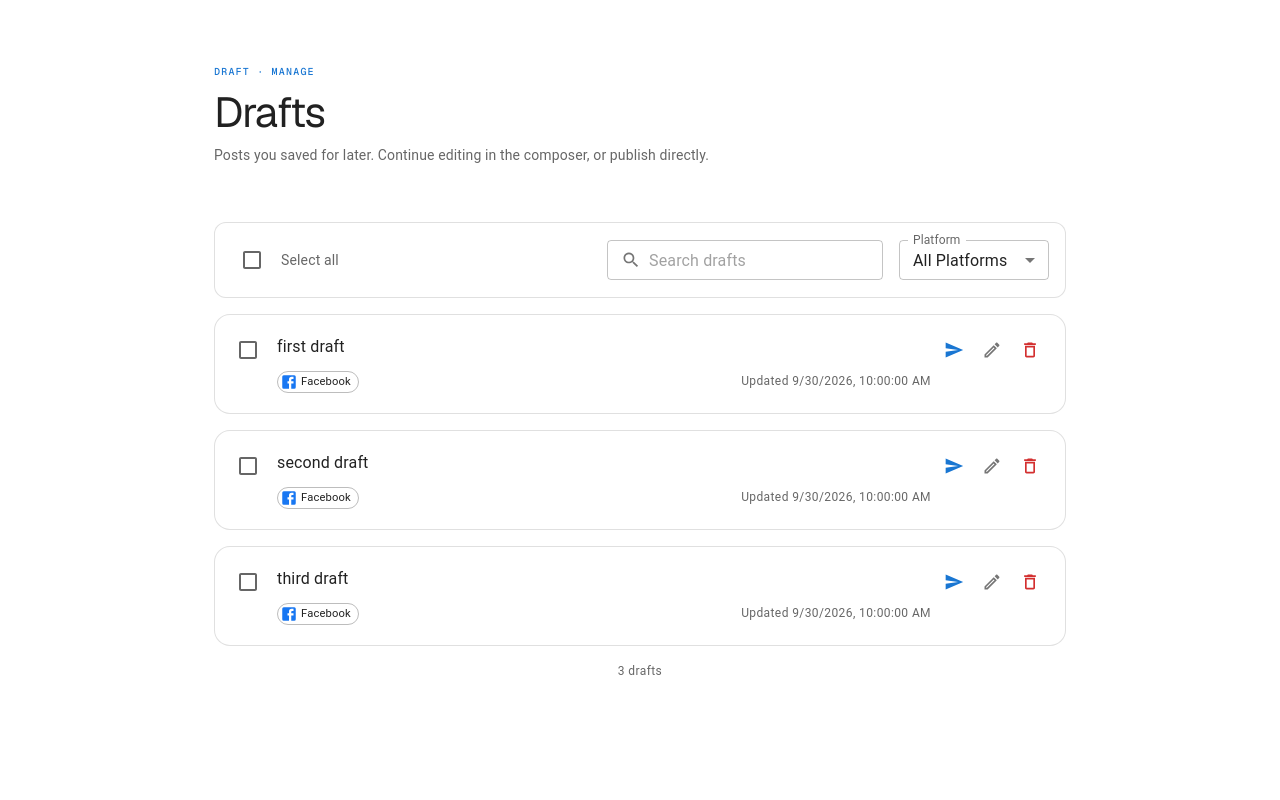
Test: Drafts page › bulk-deletes the selected drafts after confirmation
Expected: the text "first draft" is shown, [277, 337, 345, 356]
Click the checkbox named "Select draft 1". click: click(248, 350)
box: [236, 338, 260, 362]
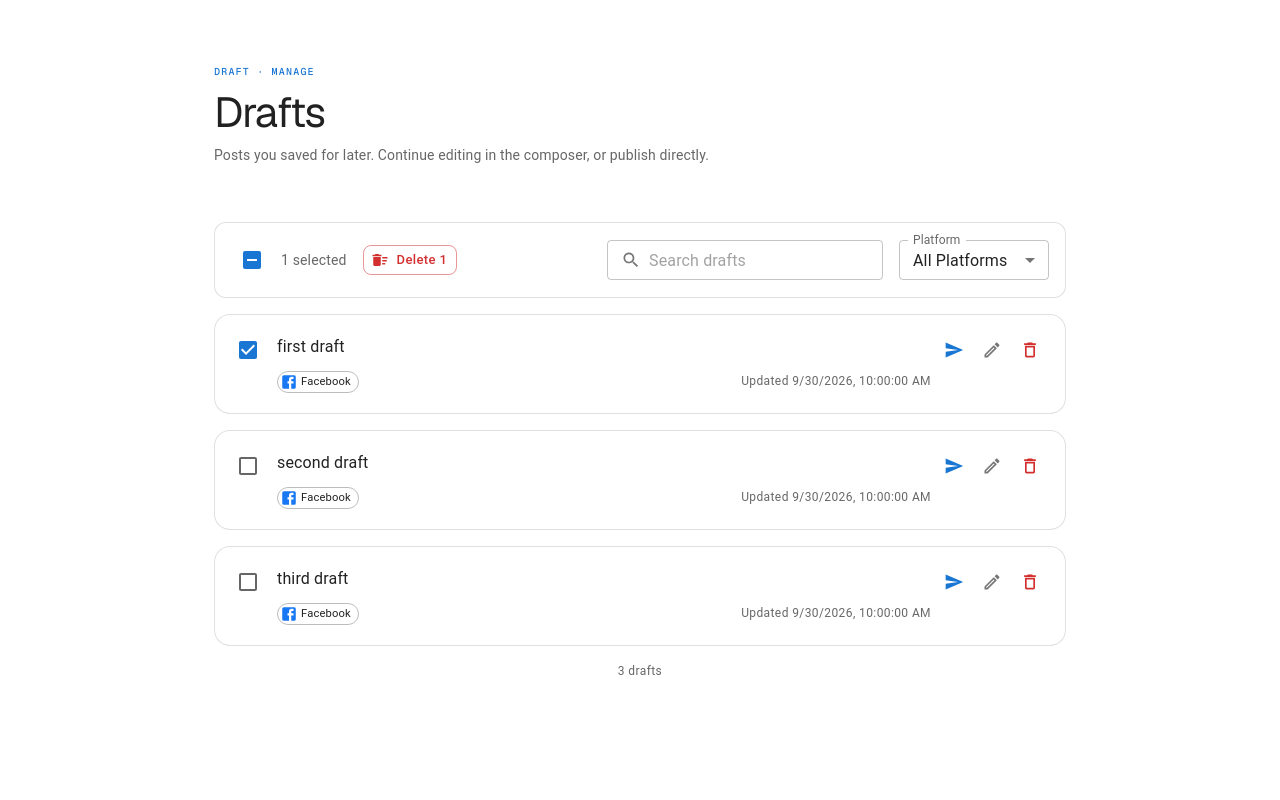
Click the checkbox named "Select draft 3". click: click(248, 582)
box: [236, 570, 260, 594]
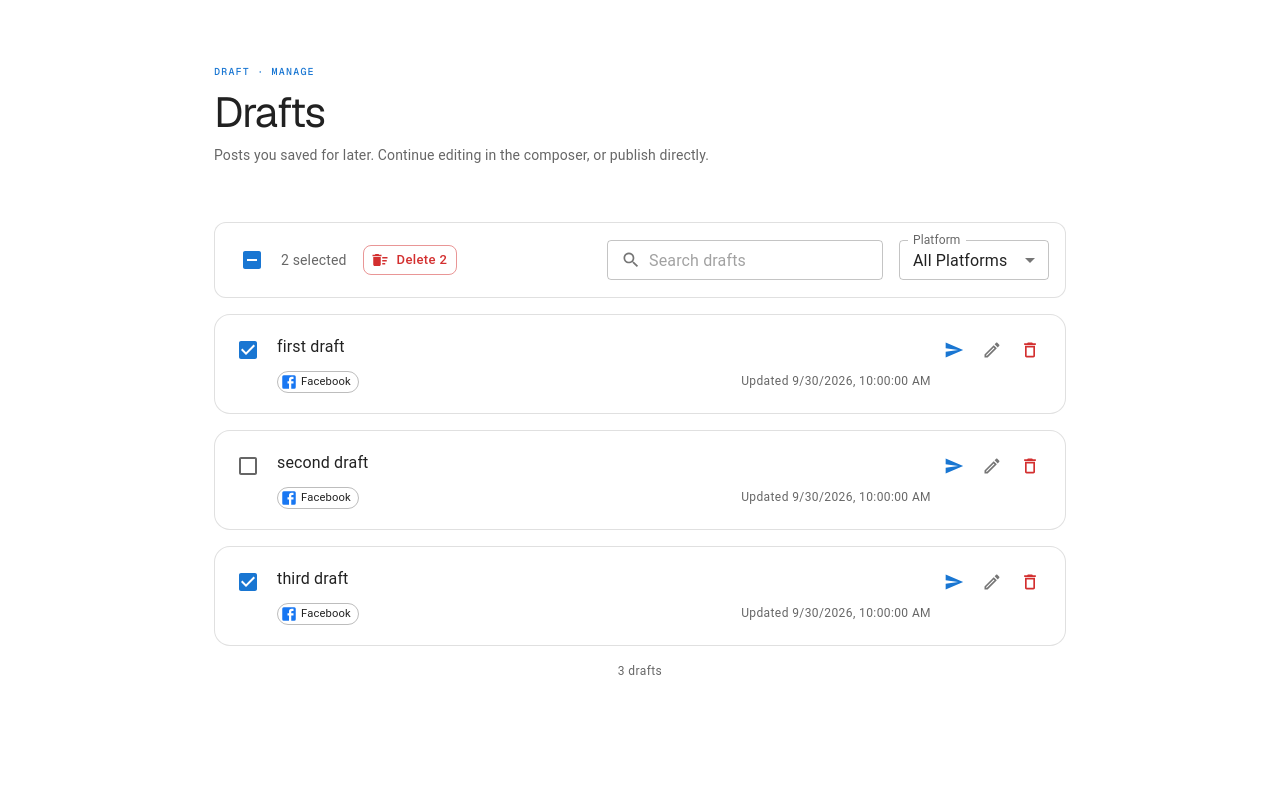
Result: the text "2 selected" is shown at [281, 250, 346, 270]
Click the button "Delete 2". click: click(410, 260)
box: [362, 245, 457, 275]
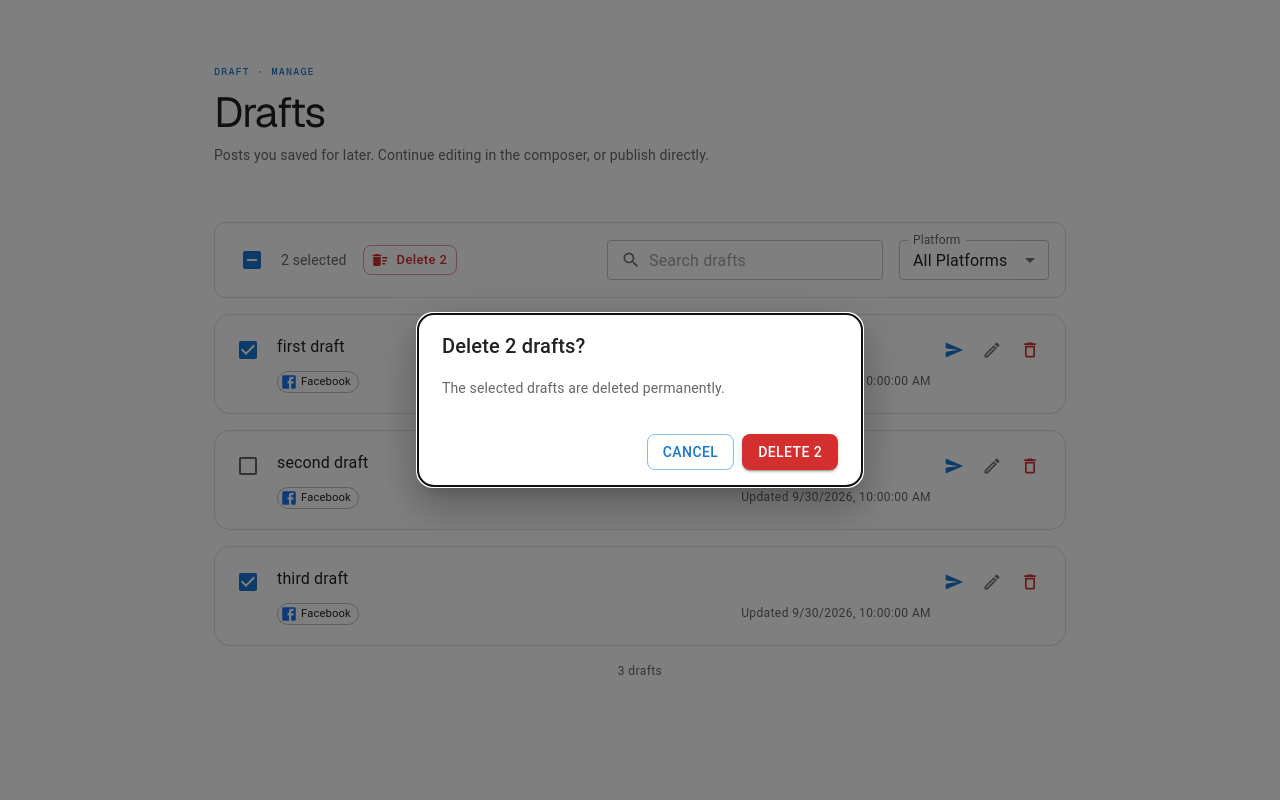
Result: the heading "Delete 2 drafts?" is shown at [442, 334, 586, 358]
Click the button "Delete 2". click: click(790, 452)
box: [742, 434, 838, 470]
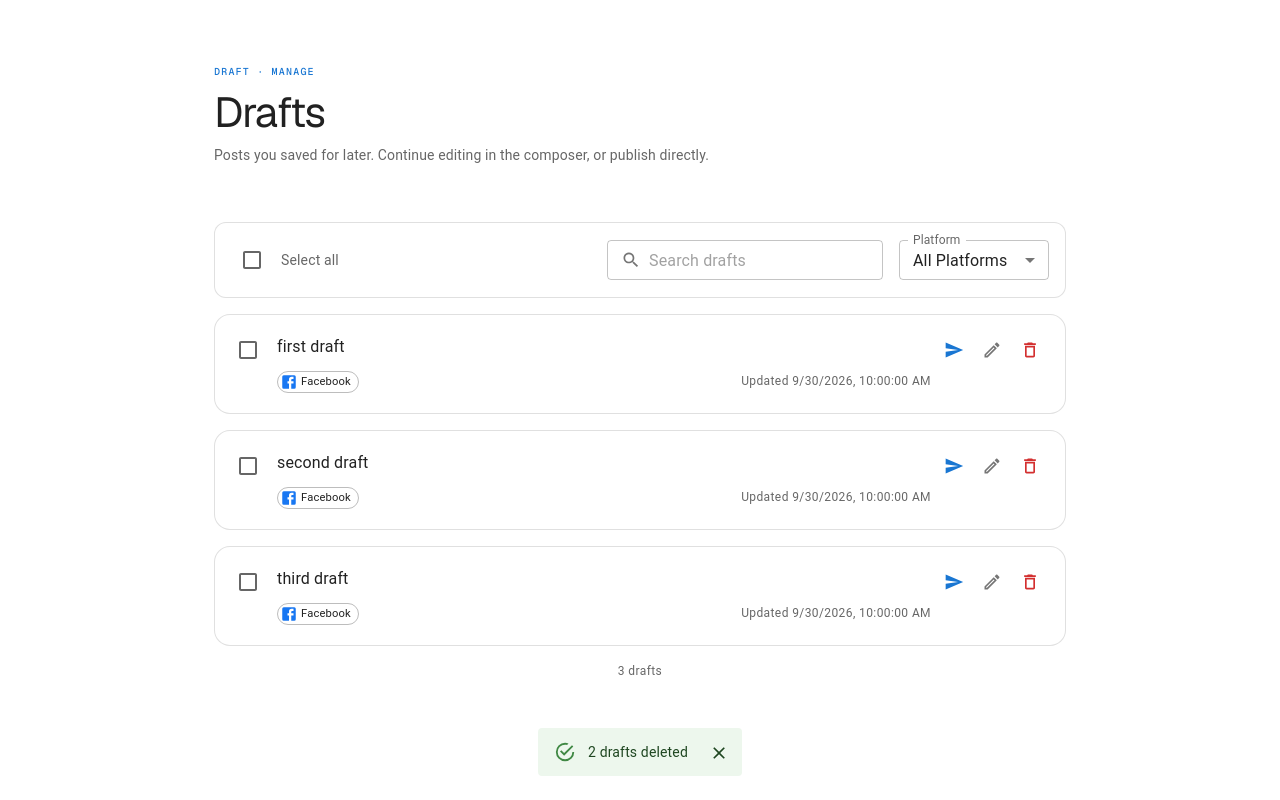
Result: the text "2 drafts deleted" is shown at [588, 744, 688, 760]
